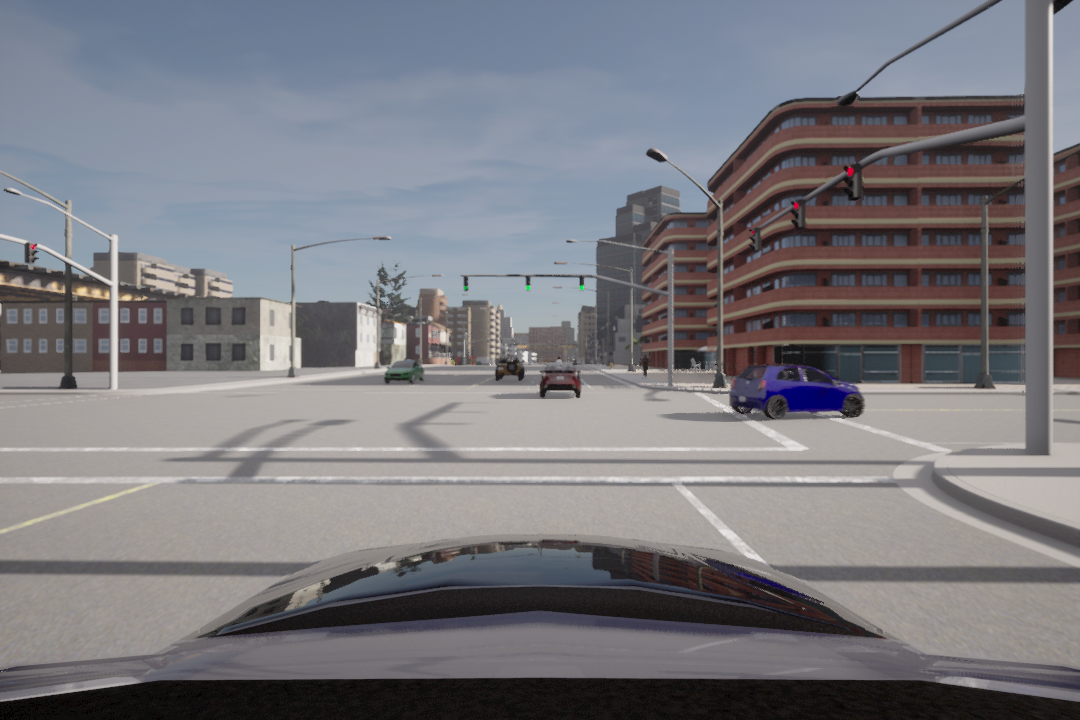TrafficLight: (844, 164, 864, 205), (791, 197, 808, 234), (22, 240, 40, 266), (746, 224, 761, 254), (577, 273, 588, 291), (525, 274, 532, 293), (463, 275, 470, 293)
